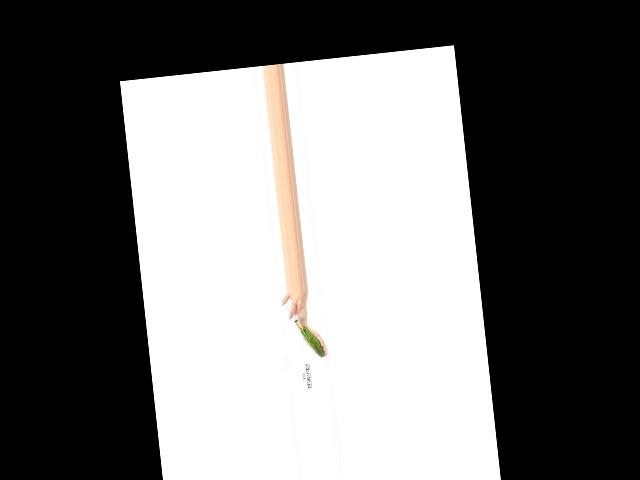cucumber: (299, 323, 325, 358)
